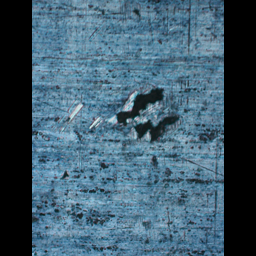d: (81, 83, 178, 148)
